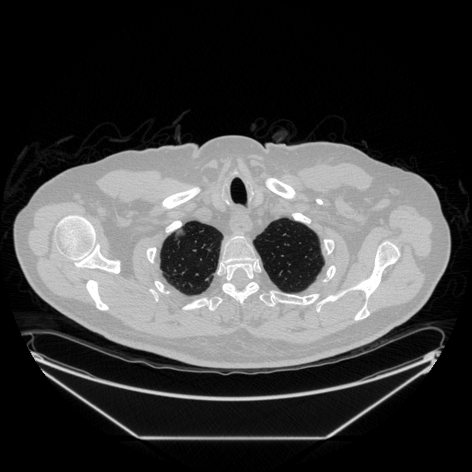nodule: (175, 230, 183, 238)
